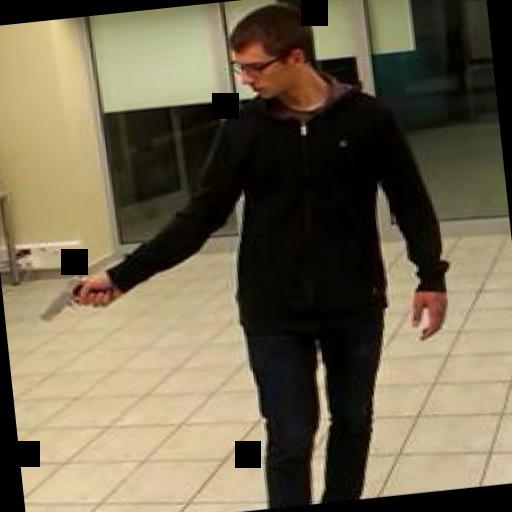Handgun: (31, 270, 113, 324)
